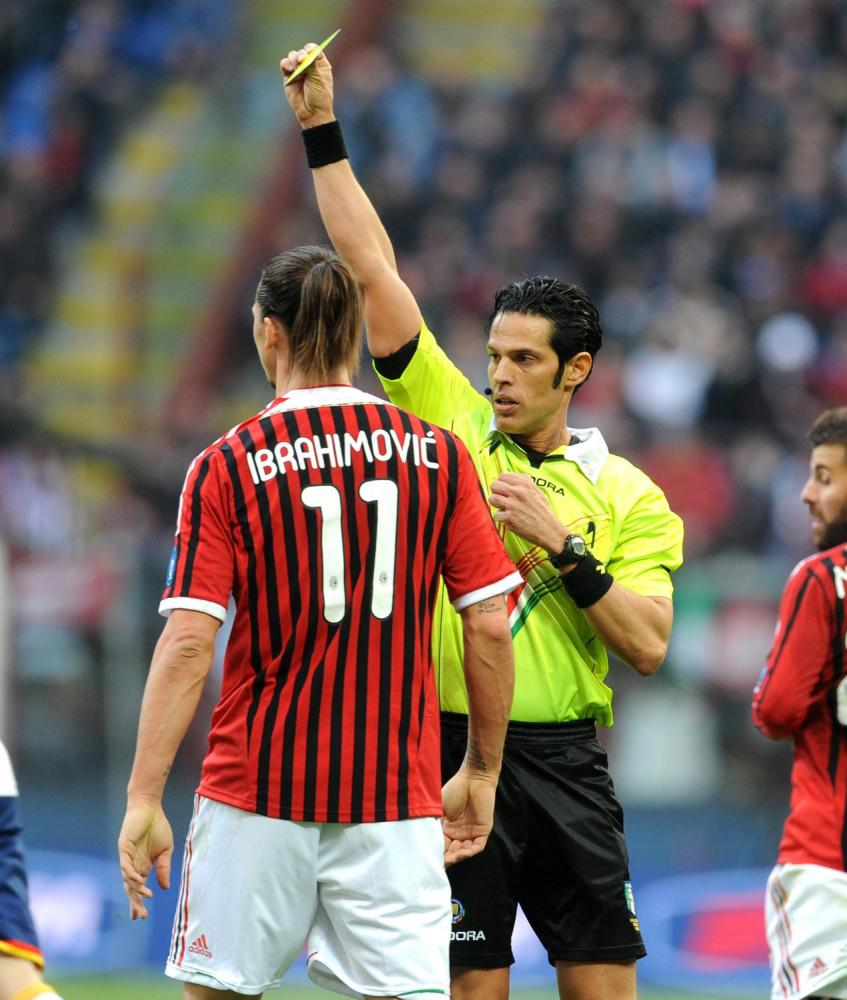yellow_card: (251, 20, 373, 129)
